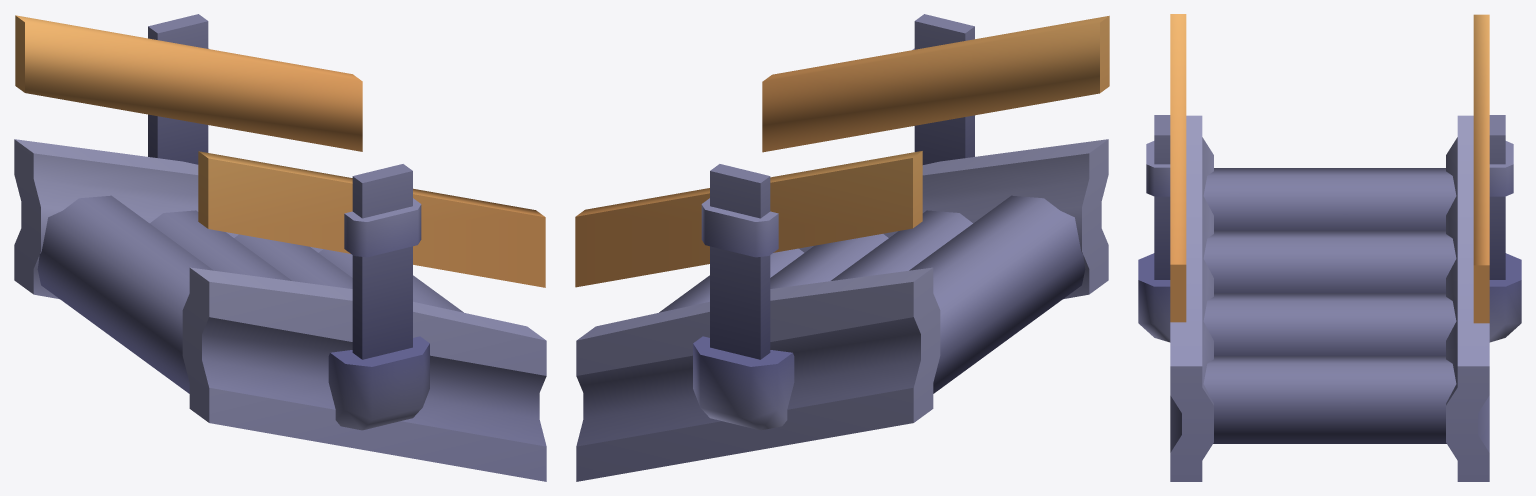
File: kenney-factory-conveyor-bars-fence-slope.glb
3 views of the same model, side by side, from view 1: azimuth 30°, elevation 25°; view 2: azimuth 150°, elevation 25°; view 3: azimuth 270°, elevation 25° (orthographic). The views are drawn at different scales.
Parts seen in each view (by area): view 1: conveyor-bars-fence-slope; view 2: conveyor-bars-fence-slope; view 3: conveyor-bars-fence-slope.
Boxes of the visible parts, x1,y1,x2,y2 form: conveyor-bars-fence-slope: (14, 14, 546, 481); conveyor-bars-fence-slope: (575, 14, 1109, 481); conveyor-bars-fence-slope: (1138, 14, 1521, 481).
Bounding box in the file's own units: 1.51 × 1.73 × 1.8.
1 material, 1 textured.
